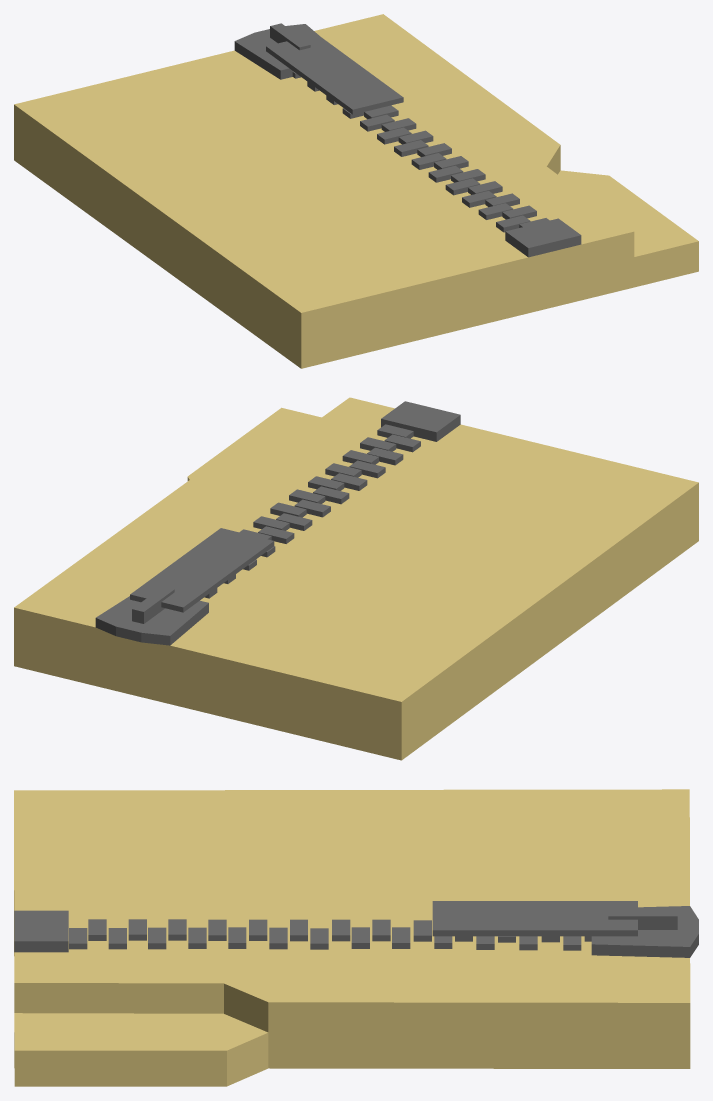
Rendered from zip_model.fbx.
3 views of the same model, one above another, from view 1: azimuth 30°, elevation 25°; view 2: azimuth 150°, elevation 25°; view 3: azimuth 270°, elevation 25° (orthographic). The views are drawn at different scales.
Parts seen in each view (by area): view 1: Cube; view 2: Cube; view 3: Cube.
Part boxes in pixels (x1,y1,x2,y2): Cube: (14, 14, 698, 368); Cube: (14, 397, 698, 760); Cube: (14, 789, 698, 1086).
Bounding box in the file's own units: 353 × 64.72 × 442.
